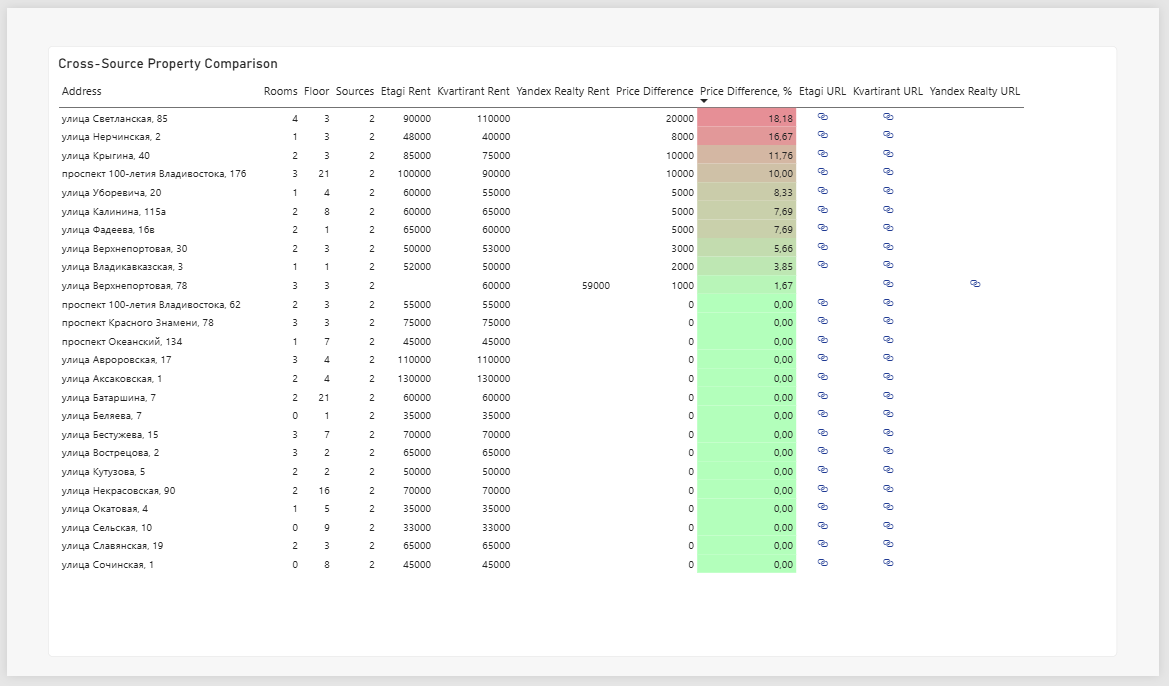

The dashboard page shown, as its layout file describes it:
{"tool":"powerbi","page":{"name":"Source Comparison","canvas":[1920,1080],"ordinal":1},"visuals":[{"type":"tableEx","title":"Cross-Source Property Comparison","fields":{"Values":["marts cross_source_properties.Address","marts cross_source_properties.rooms","marts cross_source_properties.floor","marts cross_source_properties.source_count","marts cross_source_properties.etagi_monthly_rent","marts cross_source_properties.kvartirant_monthly_rent","marts cross_source_properties.yandex_monthly_rent","marts cross_source_properties.price_difference_amount","marts cross_source_properties.price_difference_percent","marts cross_source_properties.etagi_url","marts cross_source_properties.kvartirant_url","marts cross_source_properties.yandex_url"]},"box":[68.3,30,1781.7,1018.3],"z":0}]}

Visuals, with their boxes on the page's 1920x1080 design canvas (x1, y1, x2, y2). These are canvas units, not pixel positions in the 1169x686 screenshot, which may show the page scaled, cropped or inside an application window:
"Cross-Source Property Comparison" tableEx: left=68, top=30, right=1850, bottom=1048
